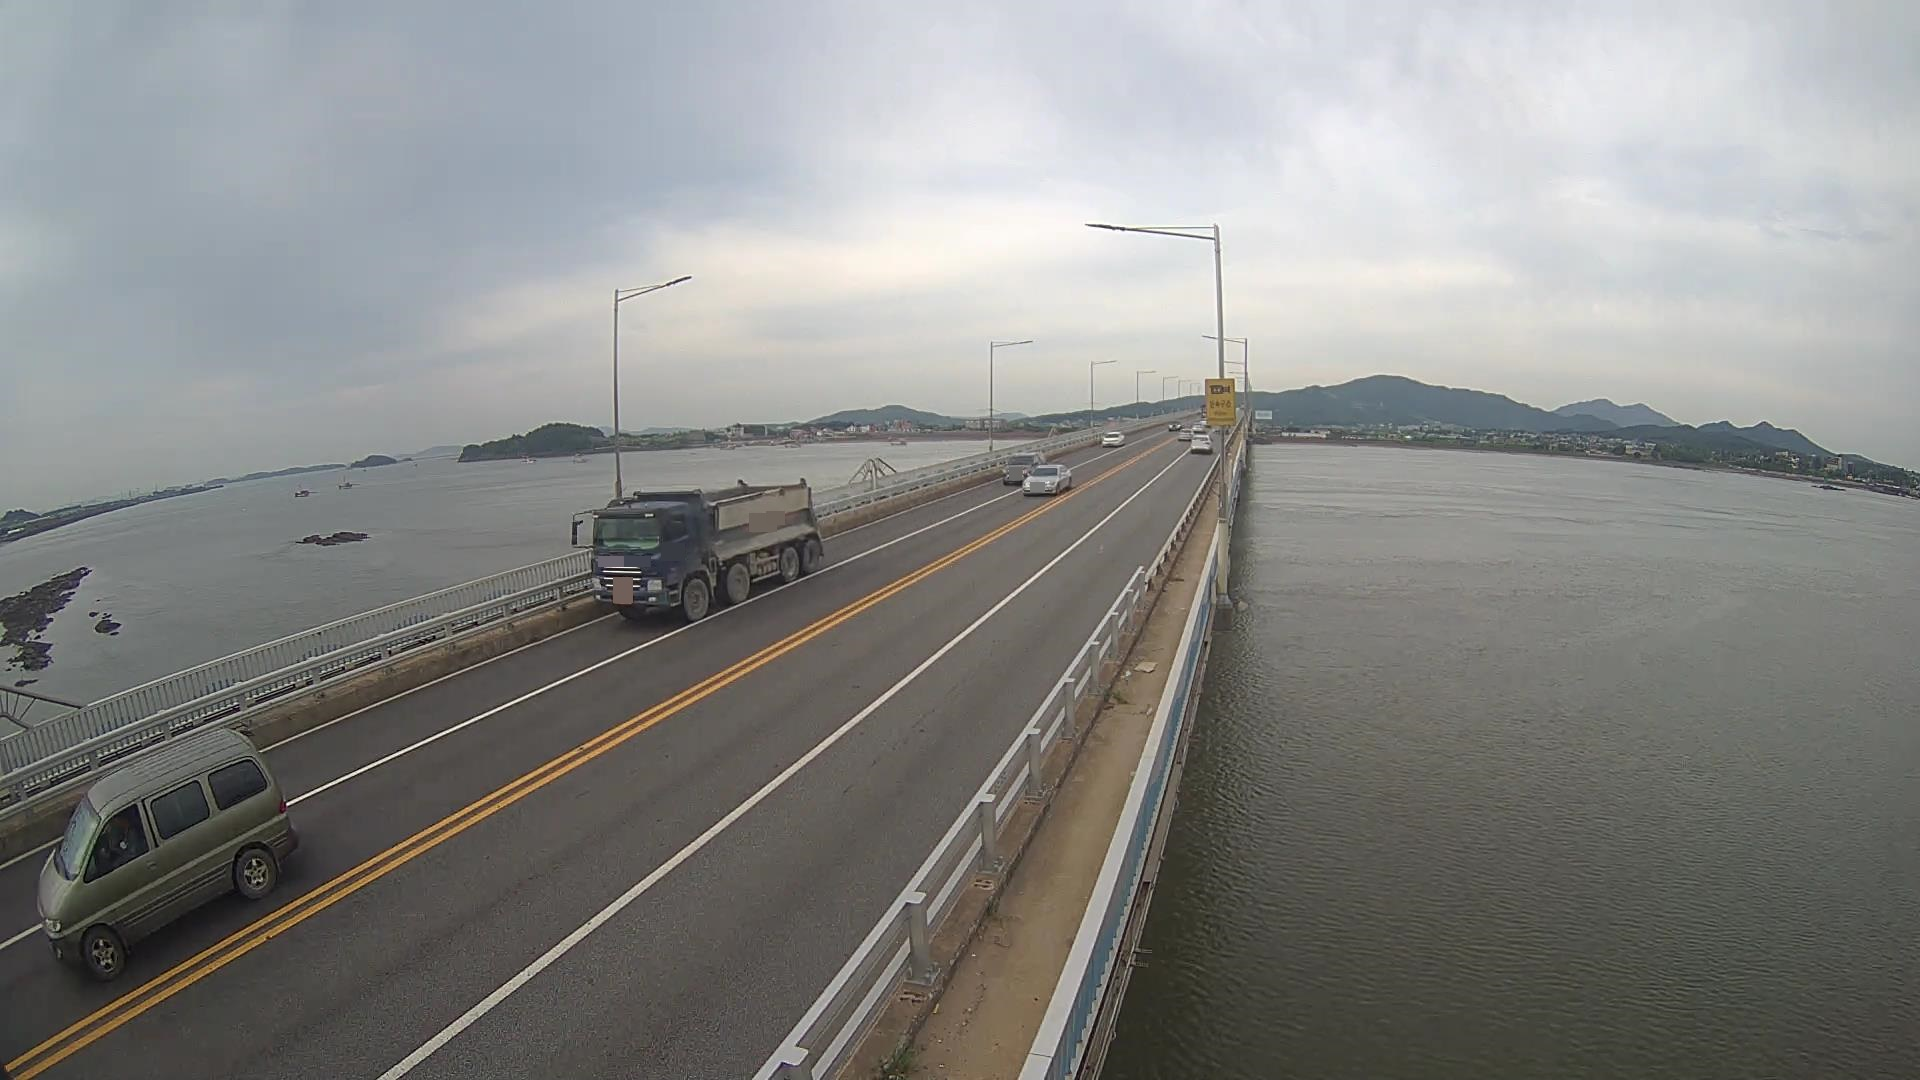정상차량: (570, 479, 828, 621)
